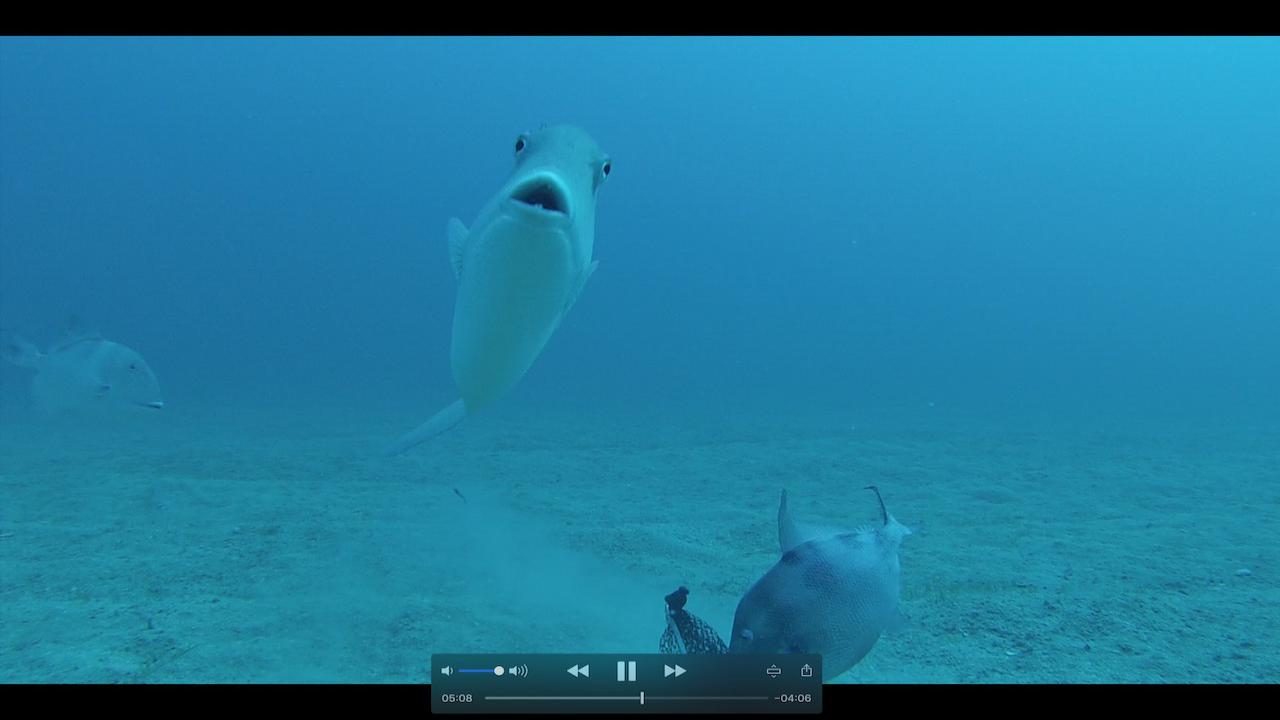balistes: (407, 106, 611, 462), (725, 474, 919, 652), (2, 310, 167, 426)
